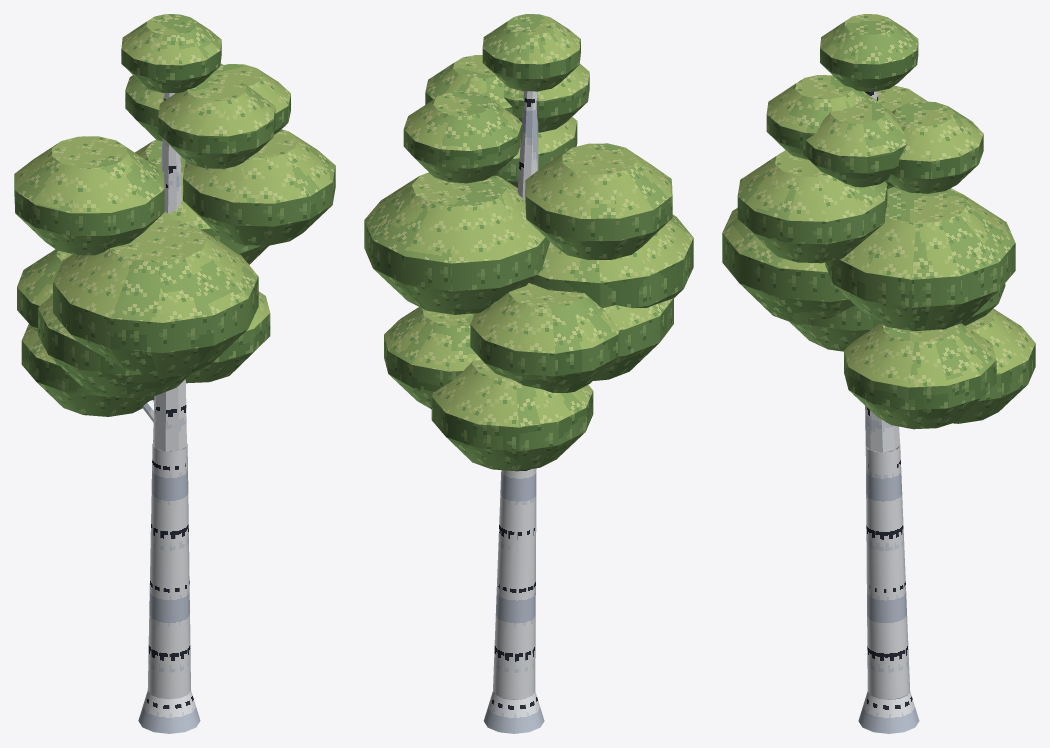
The model's file is birch_0.glb.
3 renders of one model, left to right at view 1: azimuth 30°, elevation 25°; view 2: azimuth 150°, elevation 25°; view 3: azimuth 270°, elevation 25°, orthographic. The views are drawn at different scales.
Visible parts, largest first — view 1: birch_1; view 2: birch_1; view 3: birch_1.
Part boxes in pixels (x1,y1,x2,y2): birch_1: (14,14,335,733); birch_1: (364,14,693,733); birch_1: (722,14,1035,733).
Size of the model in its own units: 2.32 by 5.76 by 2.36.
3 materials, 3 textured.
